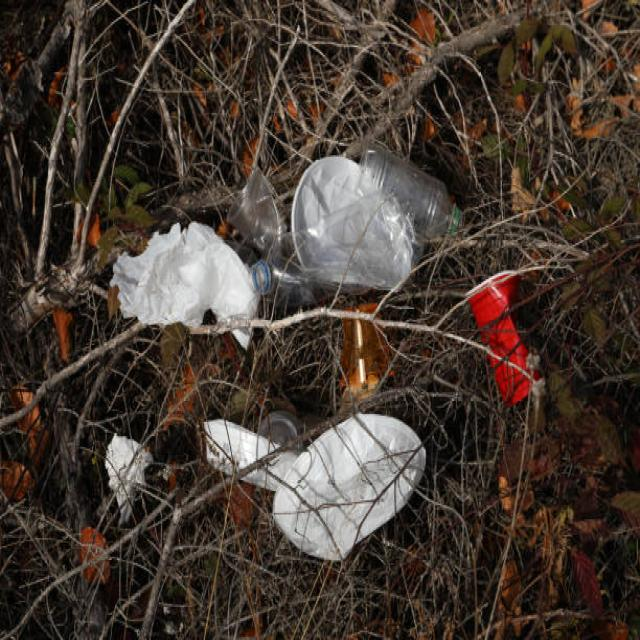metal: (469, 276, 552, 413)
plastic: (132, 172, 453, 546)
